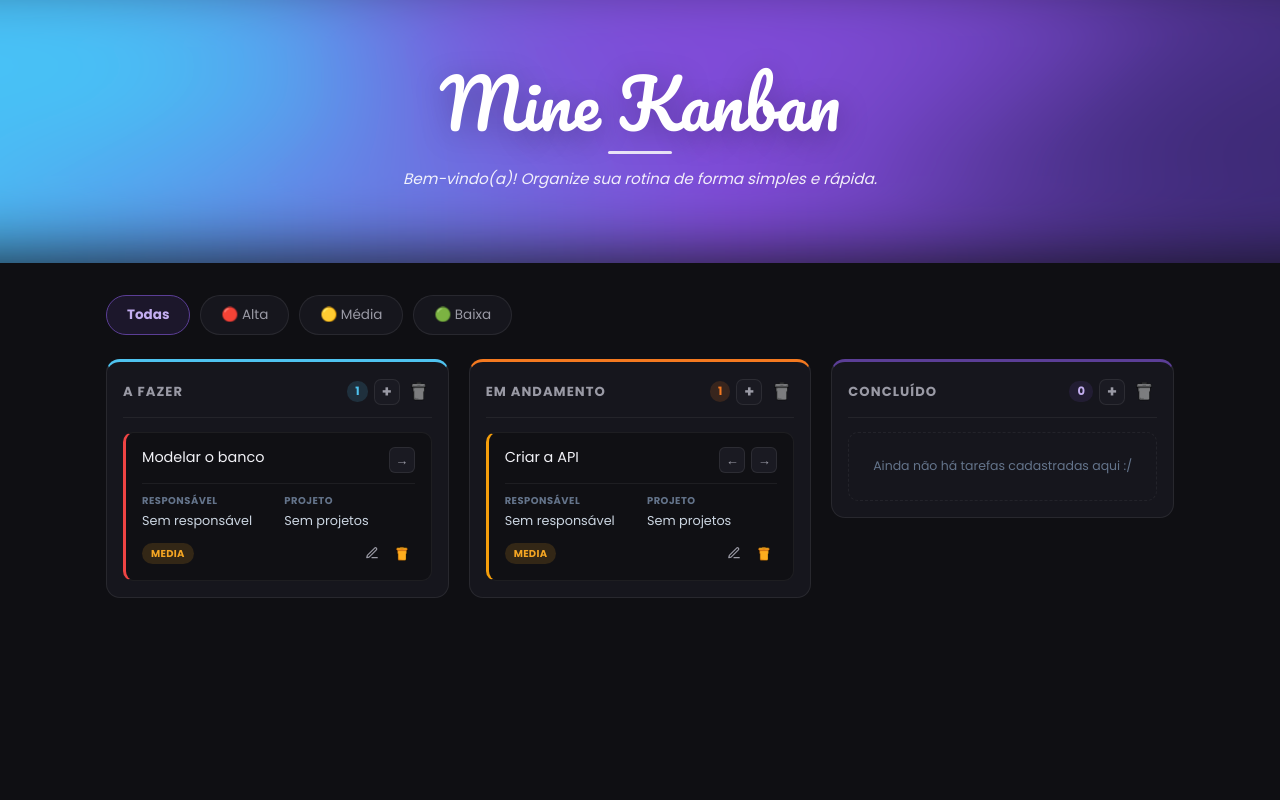
Test: Kanban › criar: o + abre o modal e a tarefa aparece
Click the button titled "Nova tarefa em A Fazer" in the row of "A Fazer" at [387, 392], box [374,379,400,405]
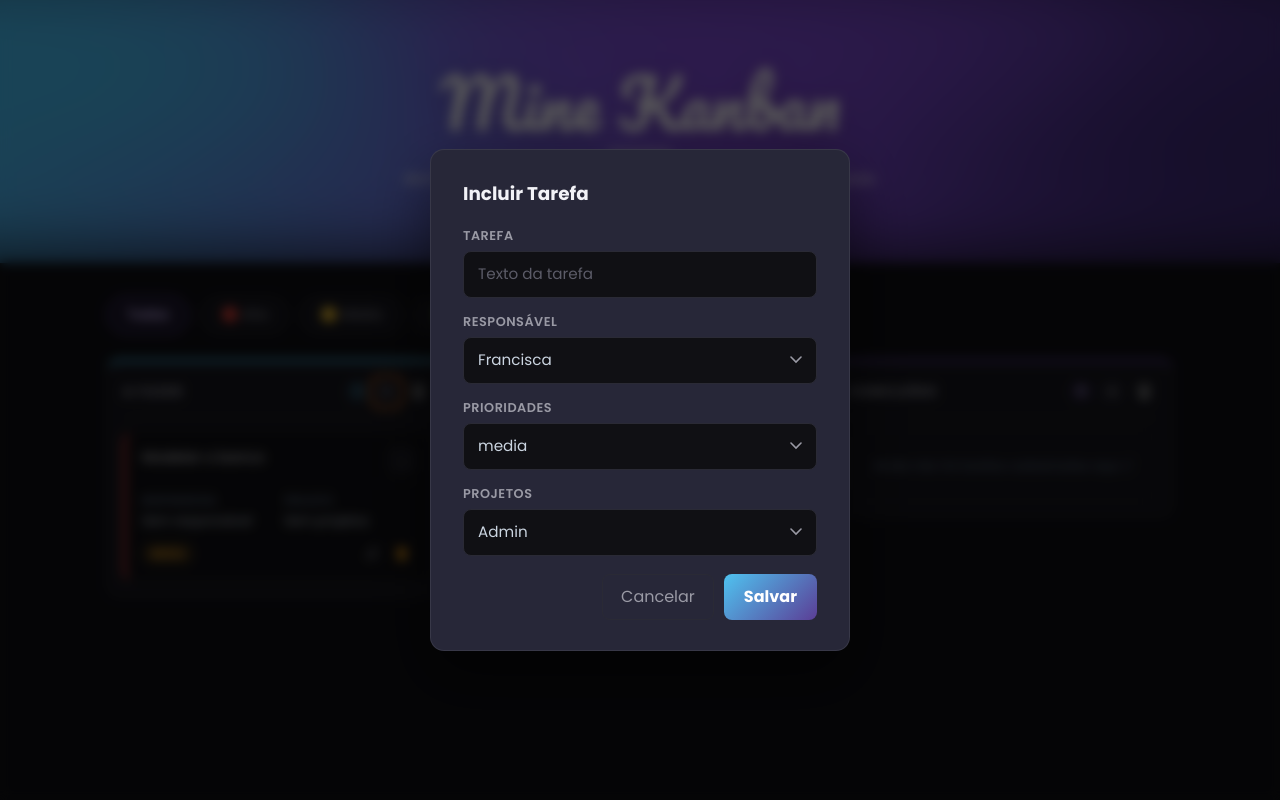
Type "Testar o Kanban" into the field labelled "Tarefa" at [640, 274], box [463,251,817,298]
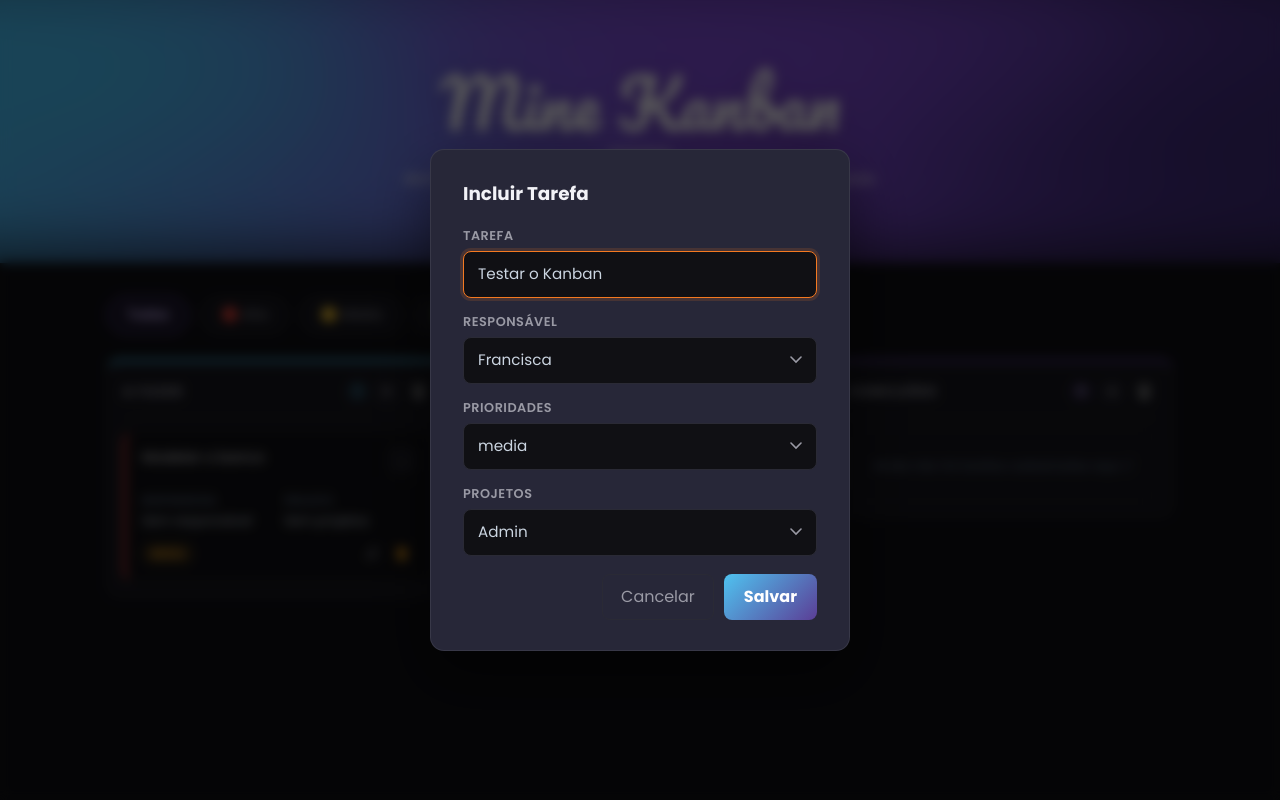
Click the button "Salvar" at [770, 597], box [724,574,817,620]
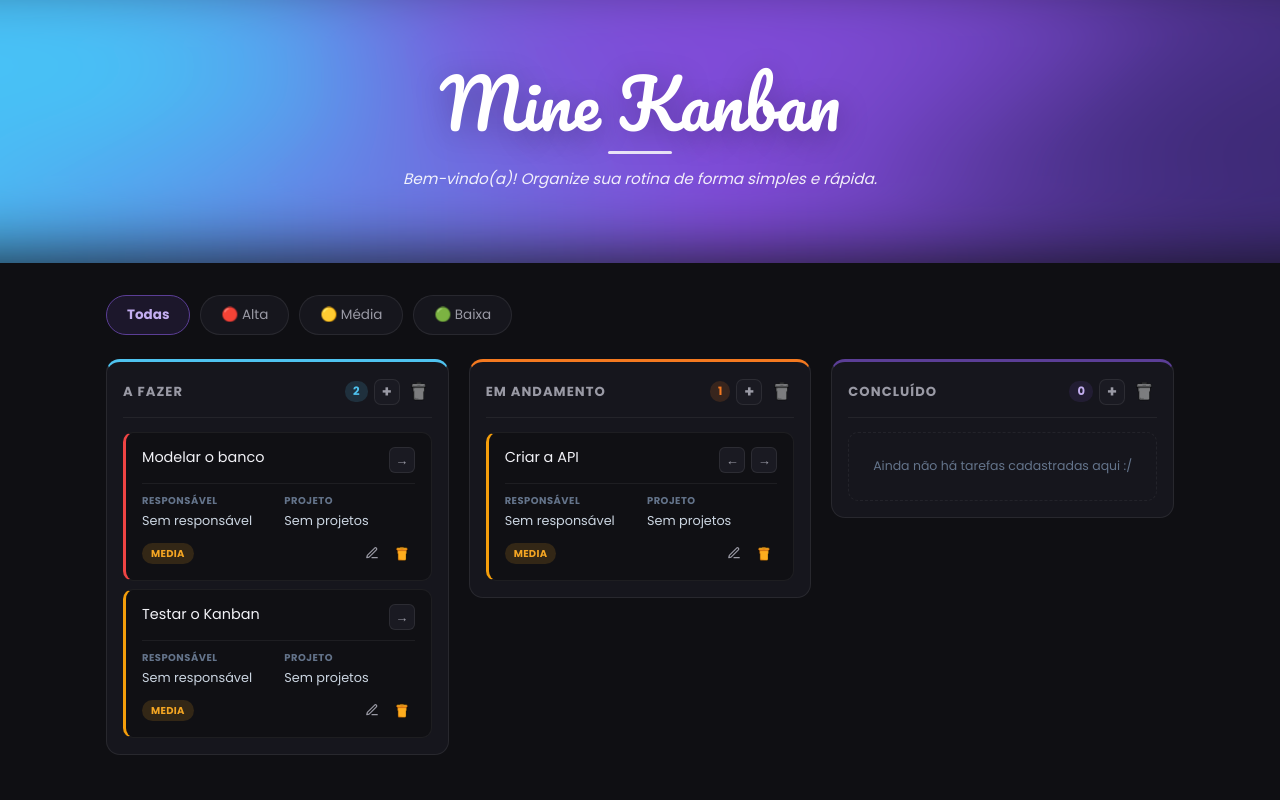
Expected: the text "Testar o Kanban" is shown, [142,604,260,624]
